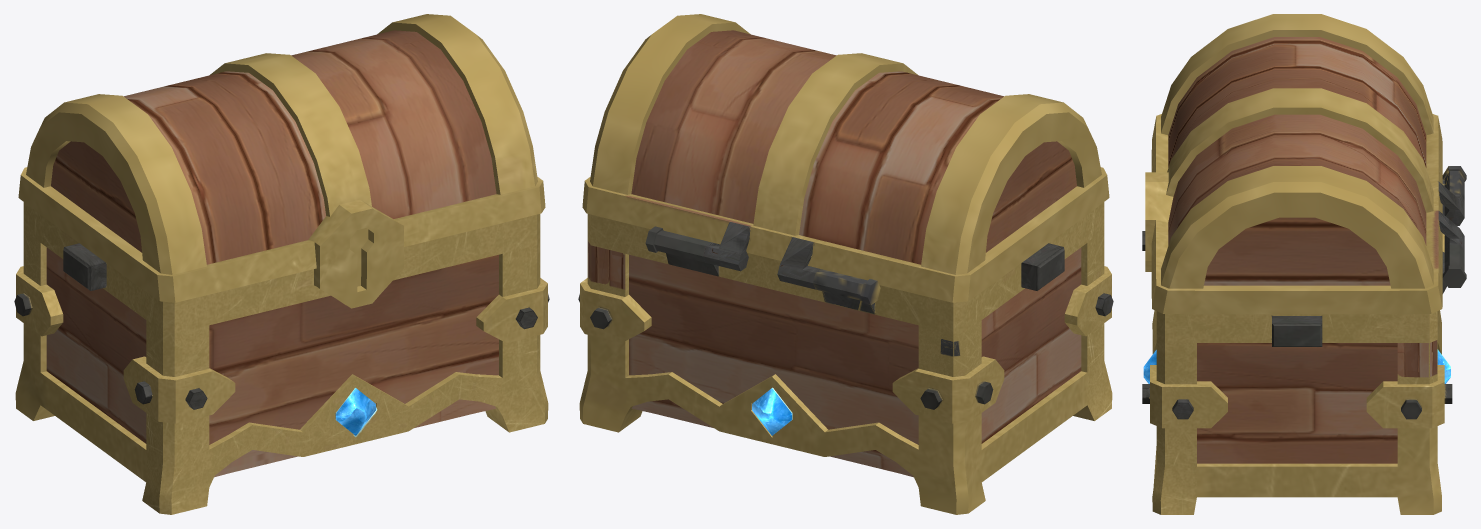
Rendered from treasure_box_with_coin_idle.fbx.
3 views of the same model, side by side, from view 1: azimuth 30°, elevation 25°; view 2: azimuth 150°, elevation 25°; view 3: azimuth 270°, elevation 25° (orthographic). The views are drawn at different scales.
Parts seen in each view (by area): view 1: Cylinder.001, Cube.001; view 2: Cylinder.001, Cube.001; view 3: Cylinder.001, Cube.001.
Boxes of the visible parts, box(x1,y1,x2,y2) form: Cylinder.001: box(18, 14, 545, 308); Cube.001: box(14, 202, 549, 514); Cylinder.001: box(582, 14, 1109, 302); Cube.001: box(578, 202, 1113, 514); Cylinder.001: box(1145, 14, 1464, 314); Cube.001: box(1142, 166, 1466, 514).
Size of the model in its own units: 17.95 by 14.31 by 12.87.
